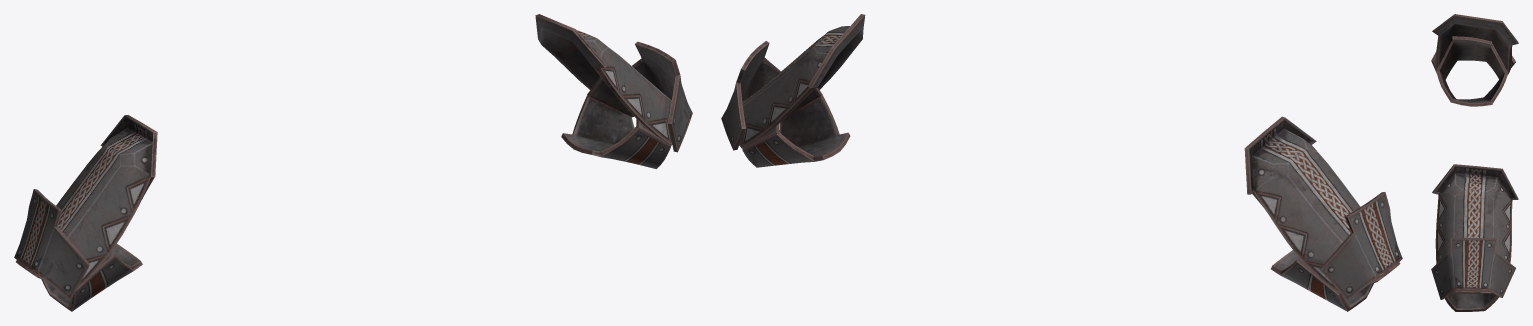
The model's file is sk_dwarf_iron_bracer_heavy_c4.fbx.
3 renders of one model, left to right at view 1: azimuth 30°, elevation 25°; view 2: azimuth 150°, elevation 25°; view 3: azimuth 270°, elevation 25°, orthographic. The views are drawn at different scales.
Parts seen in each view (by area): view 1: sk_dwarf_iron_bracer_heavy_c4; view 2: sk_dwarf_iron_bracer_heavy_c4; view 3: sk_dwarf_iron_bracer_heavy_c4.
Part boxes in pixels (<box>): sk_dwarf_iron_bracer_heavy_c4: <box>14,14,692,311</box>; sk_dwarf_iron_bracer_heavy_c4: <box>721,14,1402,311</box>; sk_dwarf_iron_bracer_heavy_c4: <box>1431,14,1518,311</box>.
Bounding box in the file's own units: 1.2 × 0.1888 × 0.2795.
1 material, 1 textured.
